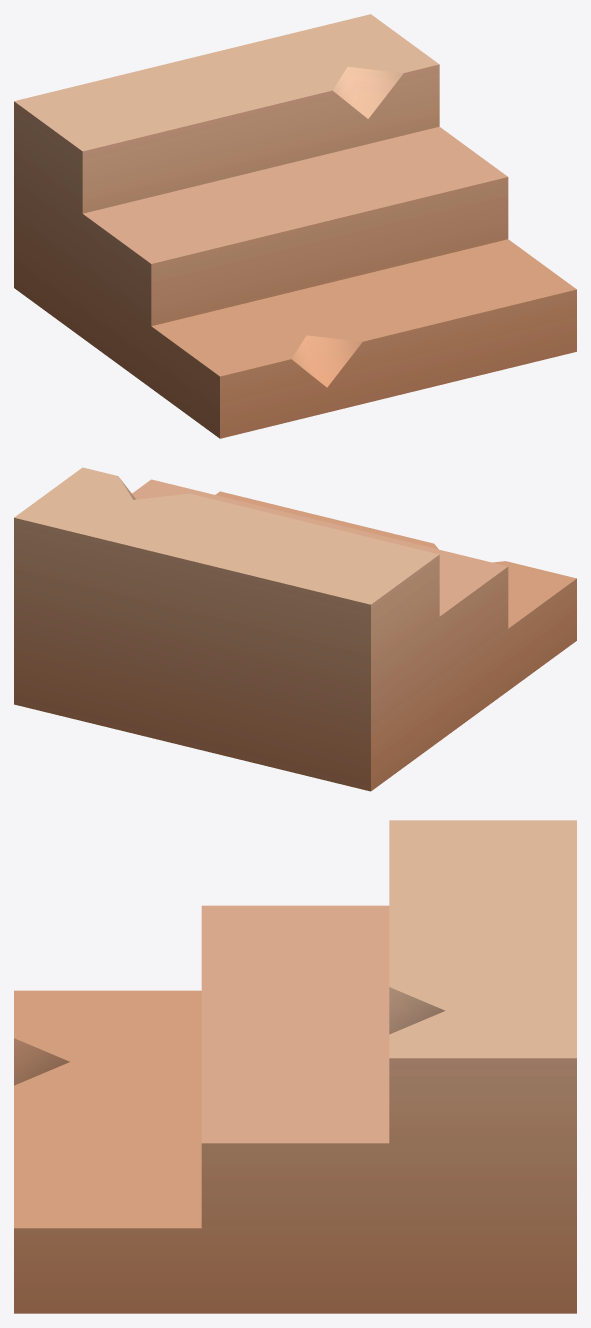
Rendered from kenney-mini-arena-stairs.glb.
The picture shows the model from 3 angles, top to bottom: view 1: azimuth 30°, elevation 25°; view 2: azimuth 150°, elevation 25°; view 3: azimuth 270°, elevation 25°; orthographic projection. The views are drawn at different scales.
Parts seen in each view (by area): view 1: stairs; view 2: stairs; view 3: stairs.
Boxes of the visible parts, <box> form: stairs: <box>14,14,576,438</box>; stairs: <box>14,467,576,791</box>; stairs: <box>14,820,576,1313</box>.
Size of the model in its own units: 1 by 0.5001 by 1.
Materials: 1 (1 with a texture image).
